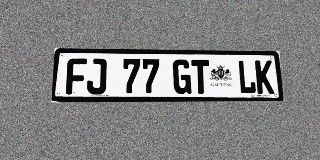7: (121, 59, 140, 94), (141, 59, 160, 94)
F: (66, 58, 87, 95)
G: (173, 59, 191, 94)
J: (86, 59, 107, 94)
K: (255, 60, 274, 94)
L: (237, 60, 256, 94)
T: (191, 60, 210, 94)
